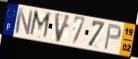7: (69, 16, 86, 48), (88, 19, 106, 49)
M: (28, 9, 52, 41)
N: (14, 7, 34, 37)
P: (103, 23, 122, 51)
V: (54, 12, 72, 45)
